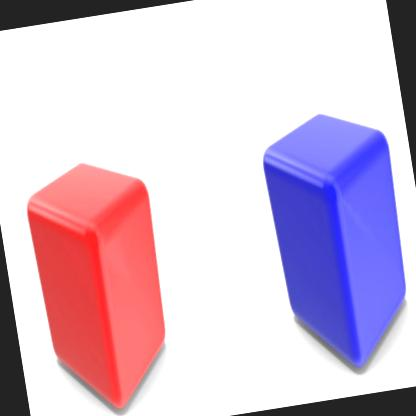blue_block: (212, 9, 416, 408)
red_block: (0, 42, 231, 416)
